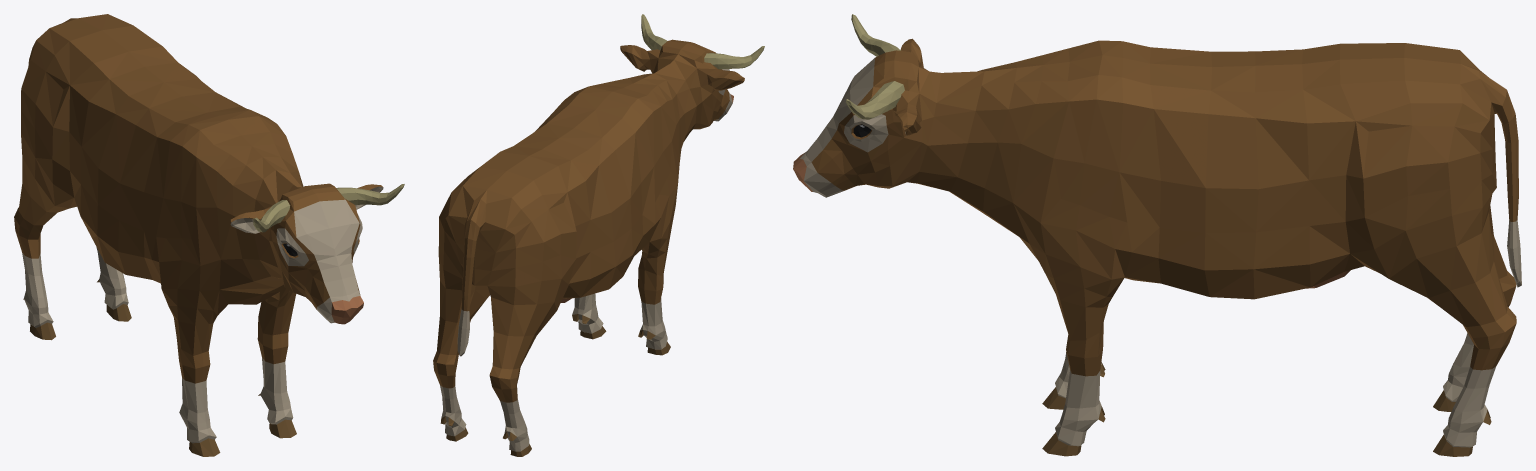
The model's file is cow.glb.
3 views of the same model, side by side, from view 1: azimuth 30°, elevation 25°; view 2: azimuth 150°, elevation 25°; view 3: azimuth 270°, elevation 25° (orthographic). The views are drawn at different scales.
Visible parts, largest first — view 1: cow; view 2: cow; view 3: cow.
Part boxes in pixels (x1,y1,x2,y2): cow: [14, 14, 404, 456]; cow: [433, 14, 764, 456]; cow: [793, 14, 1521, 456].
Bounding box in the file's own units: 0.286 × 0.5672 × 1.
